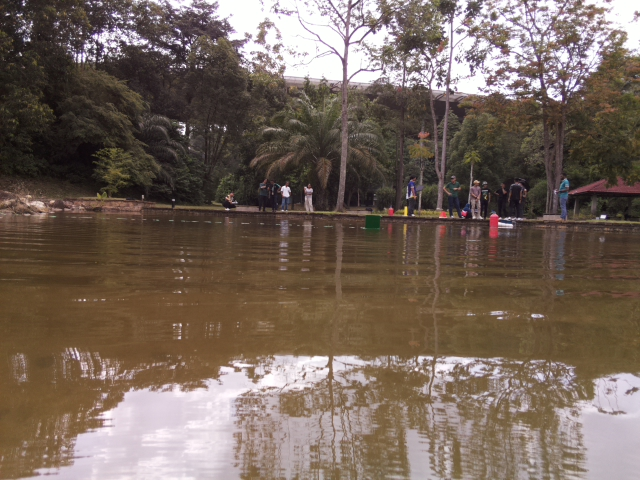obstacle: (363, 214, 382, 230)
